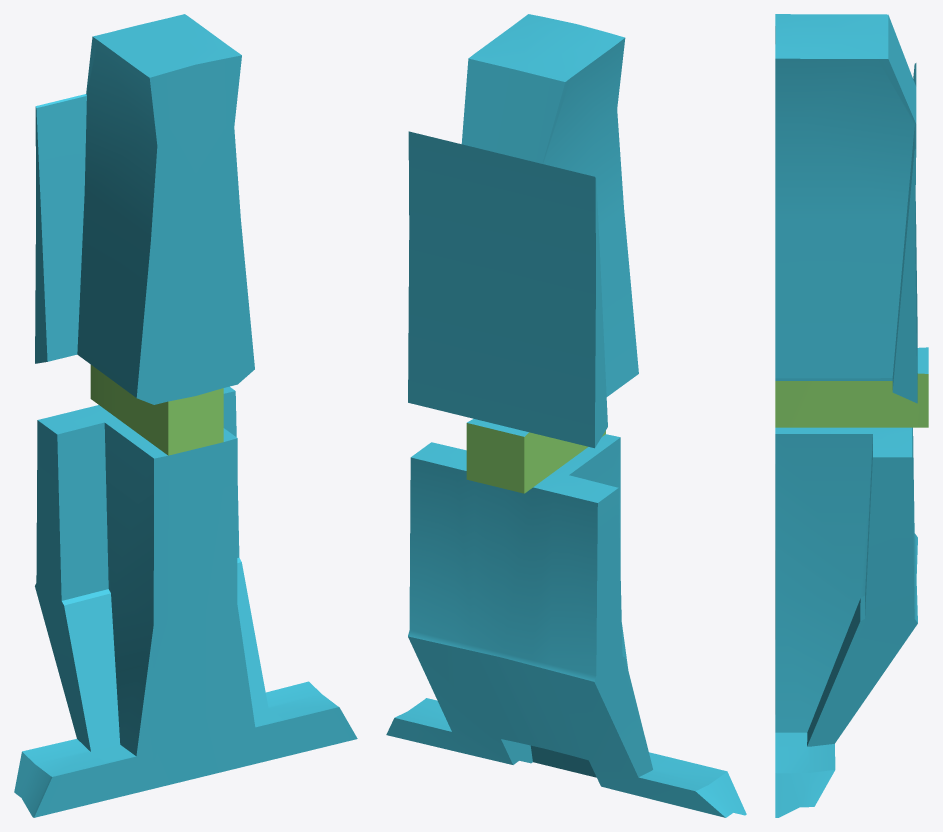
The model's file is T2_Column2Compressed.fbx.
3 renders of one model, left to right at view 1: azimuth 30°, elevation 25°; view 2: azimuth 150°, elevation 25°; view 3: azimuth 270°, elevation 25°, orthographic. The views are drawn at different scales.
Parts seen in each view (by area): view 1: T2_PillarMiddleCompressed; view 2: T2_PillarMiddleCompressed; view 3: T2_PillarMiddleCompressed.
Boxes of the visible parts, x1,y1,x2,y2 form: T2_PillarMiddleCompressed: (14,14,357,817); T2_PillarMiddleCompressed: (386,14,746,817); T2_PillarMiddleCompressed: (775,14,928,817).
Size of the model in its own units: 119 by 250 by 49.24.
